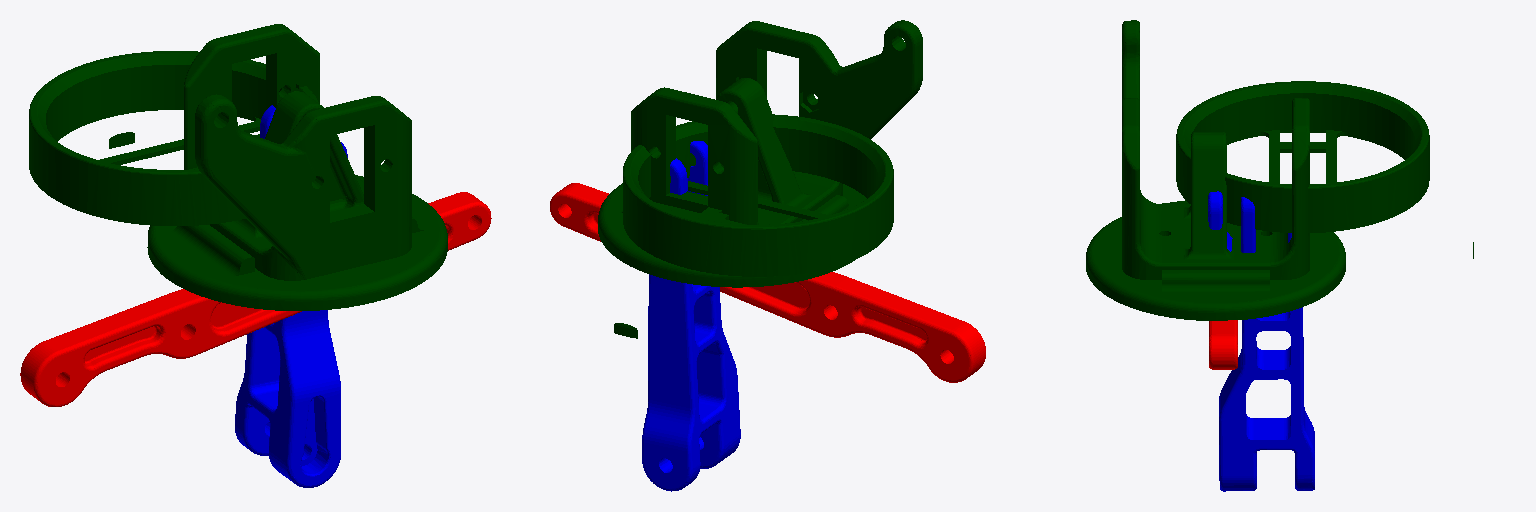
URDF robot description (siBOT):
<?xml version="1.0"?>

<robot
  name="siBOT">

<!-- BASE LINK -->
  <link
    name="base_link">
    <visual>
      <origin
        xyz="0 0 0"
        rpy="0 0 0" />
      <geometry>
        <mesh
          filename="package://eezybotarm/meshes/ebamk2/base_link.STL" />
      </geometry>
      <material
        name="">
        <color
          rgba="0 0.275 0 1" />
      </material>
    </visual>
  </link>

<!-- JOINT 1 -->
  <joint
    name="joint_1"
    type="revolute">
    <origin
      xyz="0 0 0.05"
      rpy="0 0 0" />
    <parent
      link="base_link" />
    <child
      link="link_1" />
    <axis
      xyz="0 0 1" />
    <limit
      effort="0"
      velocity="0"
      lower="-0.7854" upper="0.7854"/>
      <!--   [-45,45]-->
  </joint>

<!-- LINK 1 -->
  <link
    name="link_1">
    <visual>
      <origin
        xyz="0 -0.04 0"
        rpy="0 0 0" />
      <geometry>
        <mesh
          filename="package://eezybotarm/meshes/ebamk2/link_1.STL" />
      </geometry>
      <material
        name="">
        <color
          rgba="0 0.275 0 1" />
      </material>
    </visual>
  </link>

<!-- JOINT 2 -->
  <joint
    name="joint_2"
    type="revolute">
    <origin
      xyz="0 -0.005 0.035"
      rpy="1.578 0 0" />
    <parent
      link="link_1" />
    <child
      link="link_2" />
    <axis
      xyz="0 0 1" />
    <limit
      effort="0"
      velocity="0"
      lower="-0.6109" upper="0.9599"/>
      <!--   [-35,55]-->
  </joint>

<!-- LINK 2-->
  <link
    name="link_2">
    <visual>
      <origin
        xyz="0 0 0.0075"
        rpy="3.14159 0 0" />
      <geometry>
        <mesh
          filename="package://eezybotarm/meshes/ebamk2/link_2.STL" />
      </geometry>
      <material
        name="">
        <color
          rgba="0 0 1 1" />
      </material>
    </visual>
  </link>

<!-- JOINT 3 -->
  <joint
    name="joint_3"
    type="revolute">
    <origin
      xyz="-0.021 0.133 -0.0105"
      rpy="0 0 0" />
    <parent
      link="link_2" />
    <child
      link="link_3" />
    <axis
      xyz="0 0 1" />
    <limit
      effort="0"
      velocity="0"
      lower="-1.2217" upper="0.3491"/>
      <!--   [-70,20]-->
  </joint>

<!-- LINK 3 -->
   <link
    name="link_3">
    <visual>
      <origin
        xyz="0 0 0.0335"
        rpy="3.14159 0 0.1309" />
      <geometry>
        <mesh
          filename="package://eezybotarm/meshes/ebamk2/link_3.STL" />
      </geometry>
      <material
        name="">
        <color
          rgba="1 0 0 1" />
      </material>
    </visual>
  </link>

</robot>

--- Render facts (derived) ---
3 views of the same robot in one strip: view 1: azimuth 30°, elevation 25°; view 2: azimuth 150°, elevation 25°; view 3: azimuth 270°, elevation 25° (orthographic).
Model siBOT with 4 links and 3 joints (3 revolute), rooted at base_link, posed every joint at zero.
Visible links, largest first — view 1: link_1, base_link, link_3, link_2; view 2: link_1, base_link, link_2, link_3; view 3: link_1, base_link, link_2, link_3.
Link boxes in pixels (box(x1,y1,x2,y2)): link_1: box(147, 24, 447, 310); base_link: box(29, 51, 318, 225); link_3: box(20, 192, 491, 406); link_2: box(235, 105, 347, 487); link_1: box(598, 20, 922, 287); base_link: box(614, 114, 893, 338); link_2: box(642, 141, 740, 491); link_3: box(550, 183, 985, 382); link_1: box(1086, 20, 1345, 320); base_link: box(1176, 81, 1473, 258); link_2: box(1208, 191, 1314, 491); link_3: box(1209, 320, 1237, 369).
Size in the robot's own frame: 127 by 107 by 123 metres.
Meshes: 4 distinct files referenced, 4 mesh visuals loaded (4 binary STL).
